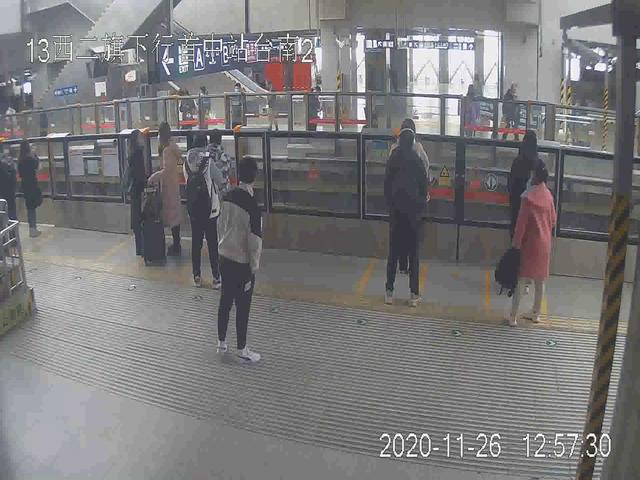person: (216, 155, 263, 362), (512, 161, 557, 326), (386, 129, 423, 307), (183, 129, 224, 287), (505, 127, 542, 295), (152, 119, 183, 258), (124, 128, 154, 257), (16, 138, 47, 236)
